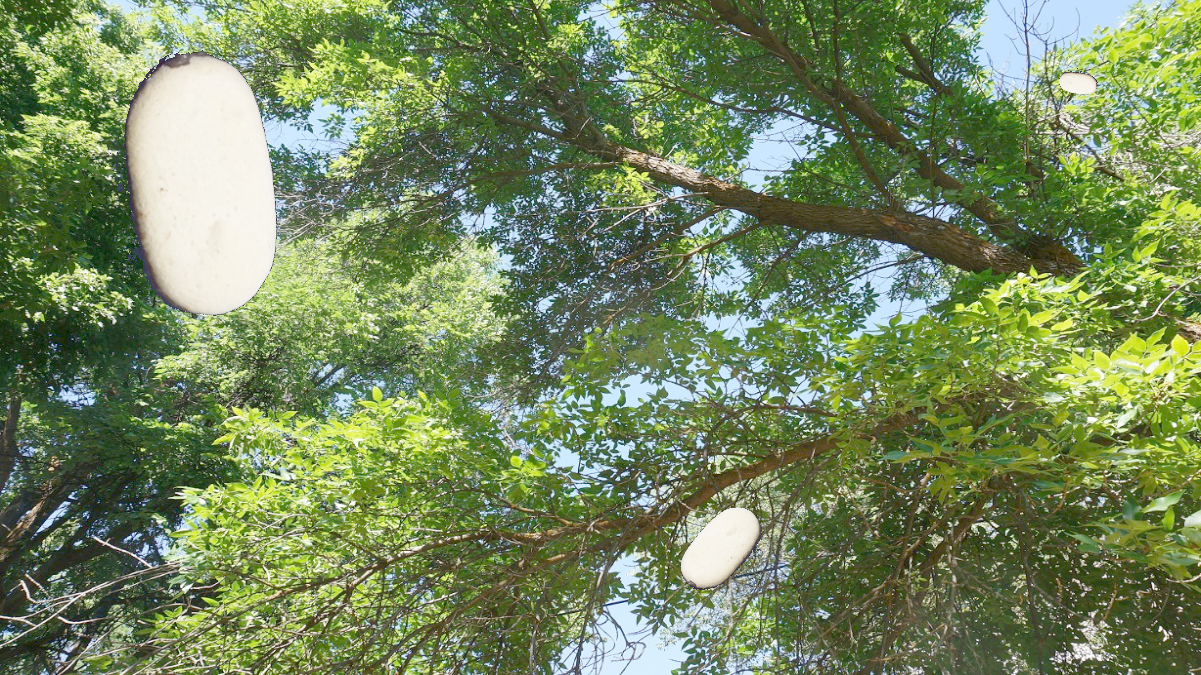test: (29, 17, 355, 345), (673, 504, 770, 598), (1054, 57, 1103, 106)
